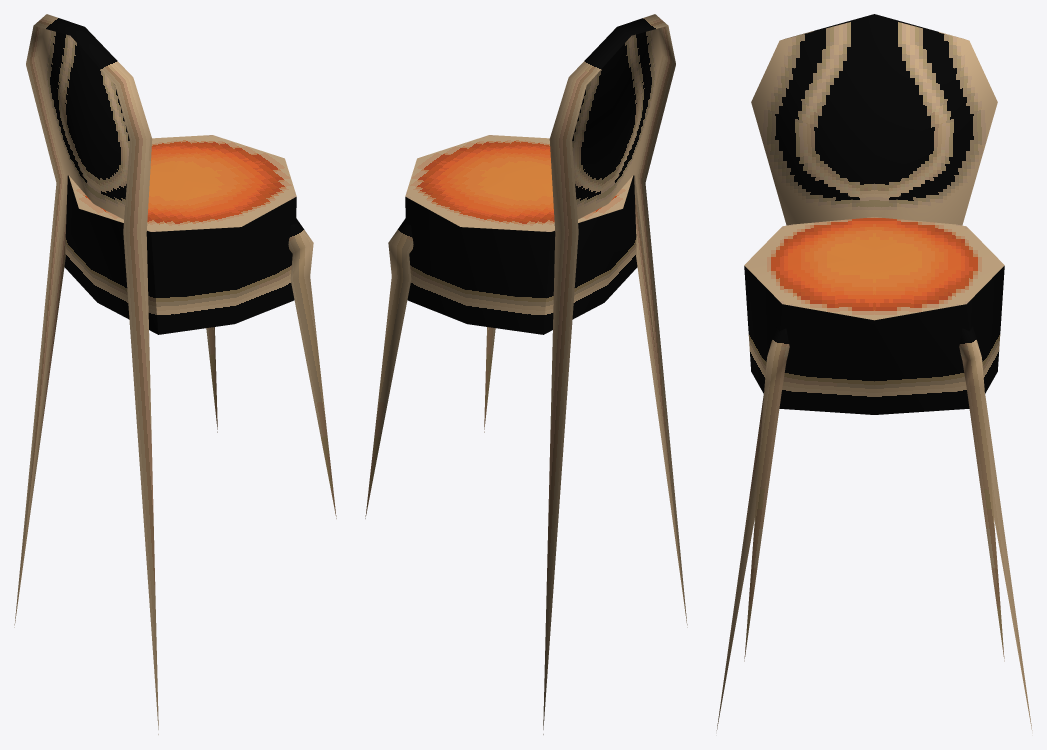
3 renders of one model, left to right at view 1: azimuth 30°, elevation 25°; view 2: azimuth 150°, elevation 25°; view 3: azimuth 270°, elevation 25°, orthographic. The views are drawn at different scales.
Parts seen in each view (by area): view 1: 3567kg_08_isu; view 2: 3567kg_08_isu; view 3: 3567kg_08_isu.
Part boxes in pixels (x1=…): 3567kg_08_isu: x1=14, y1=14, x2=336, y2=734; 3567kg_08_isu: x1=365, y1=14, x2=687, y2=734; 3567kg_08_isu: x1=716, y1=14, x2=1032, y2=730.
Bounding box in the file's own units: 0.7617 × 2.23 × 0.8901.
3 materials, 3 textured.
